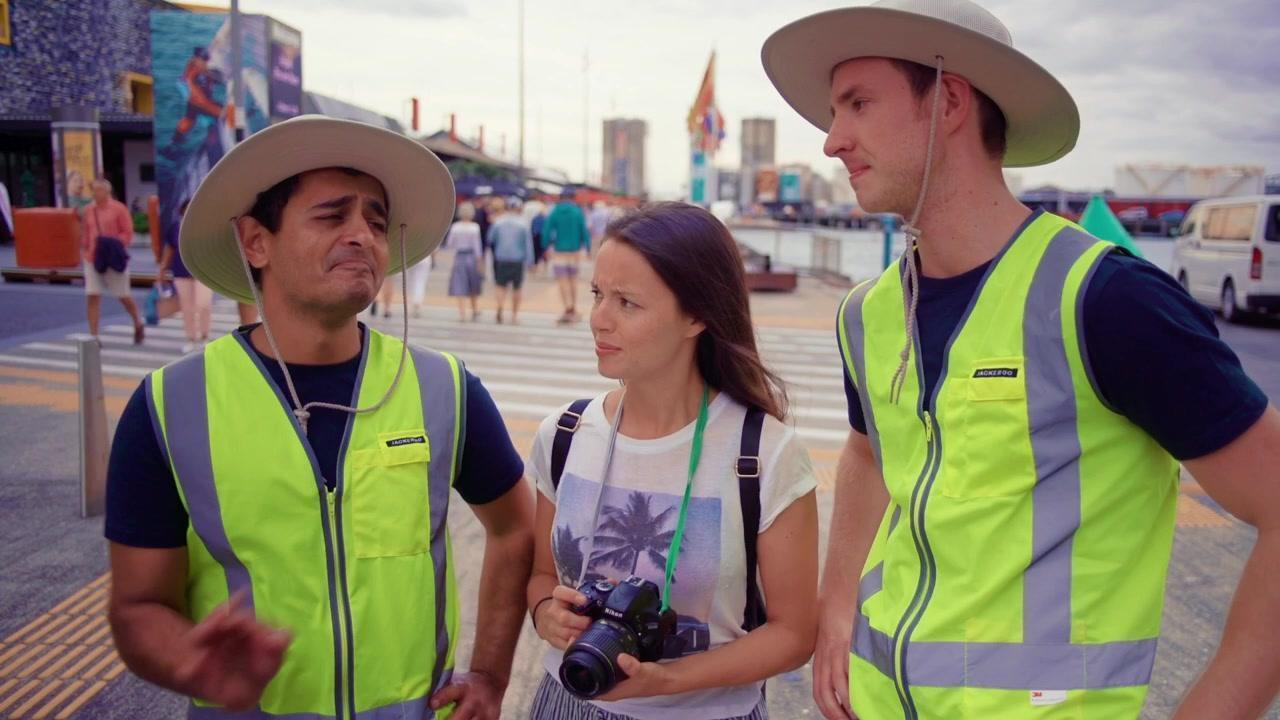Glass: (835, 201, 1179, 716), (148, 319, 476, 715), (528, 333, 821, 719)
